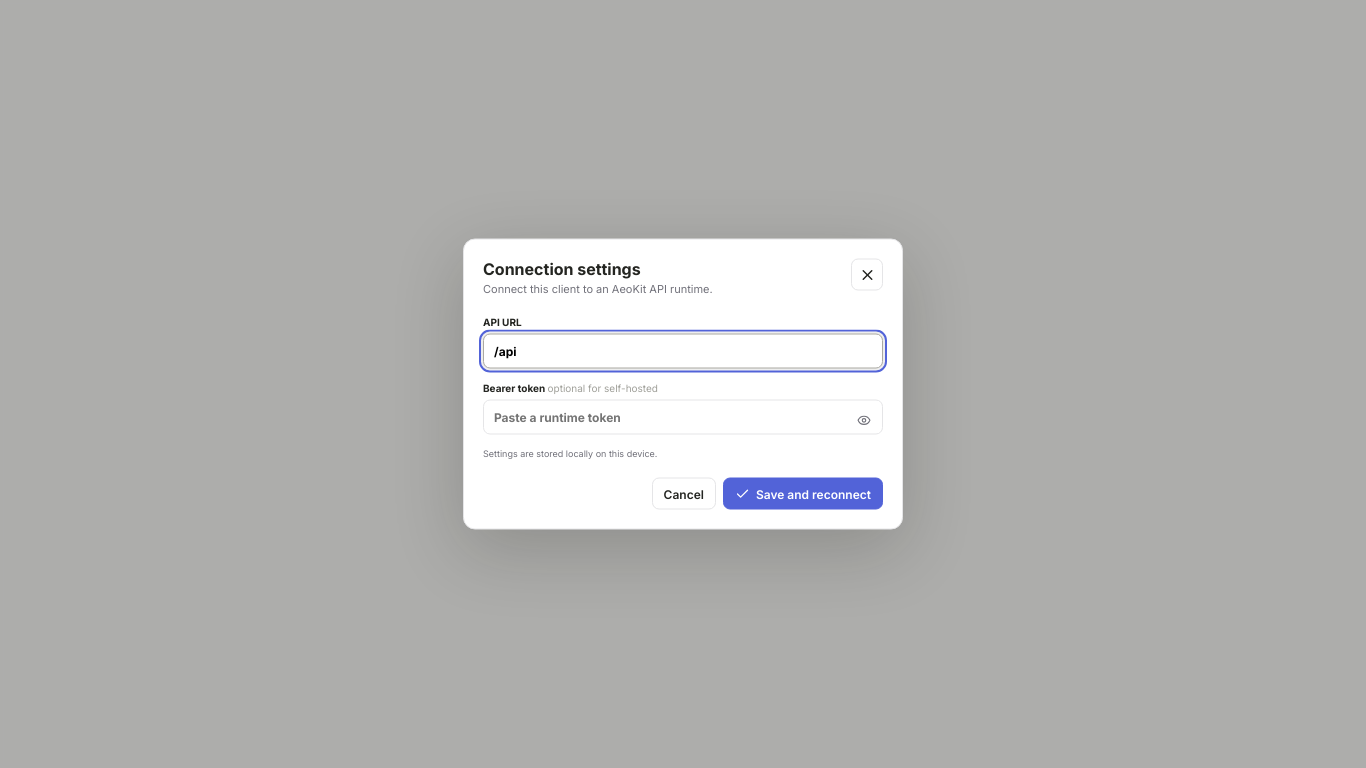
it: SettingsDialog › keeps the dialog stable while settings are being saved
Click the button "Save and reconnect": (803, 494) top-left (723, 478), bottom-right (883, 510)
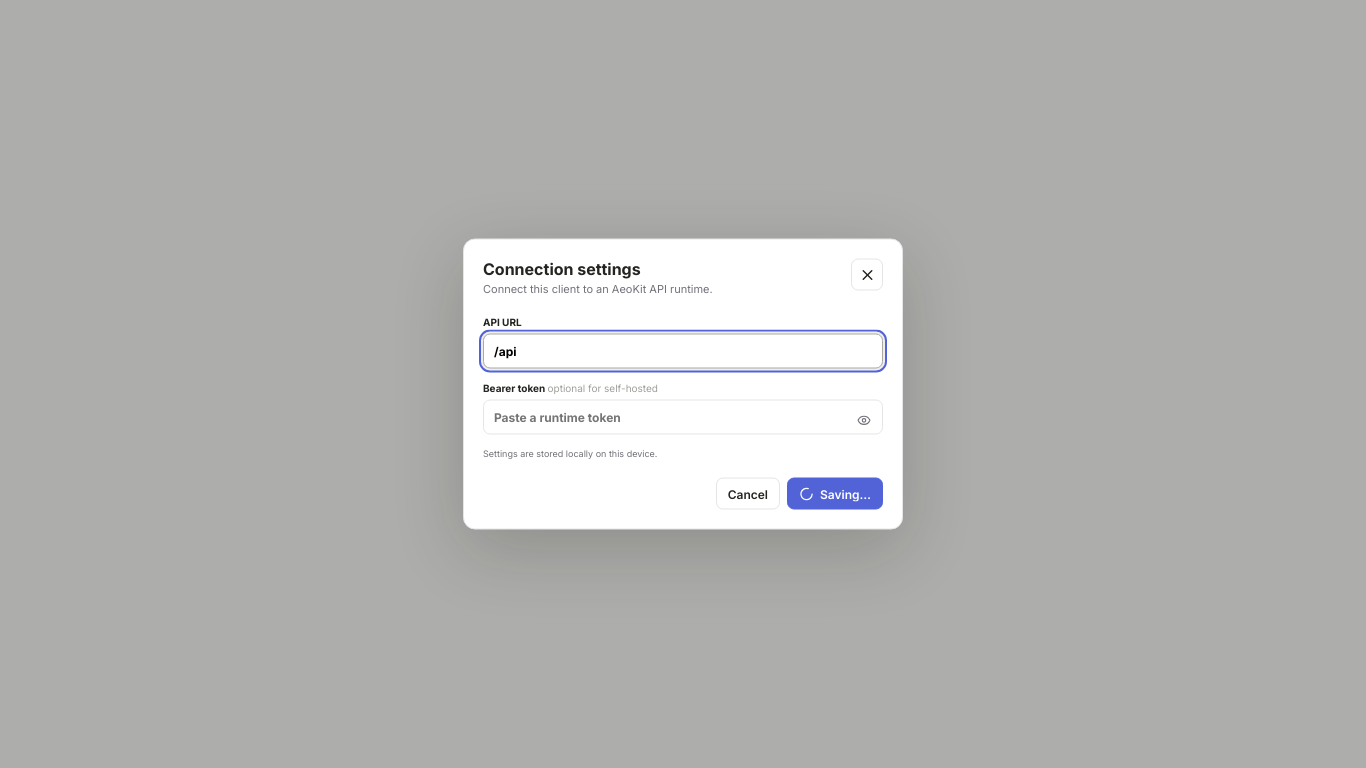
Expected: the button "Saving…" is disabled, top-left (787, 478), bottom-right (883, 510)
Press Escape in the dialog
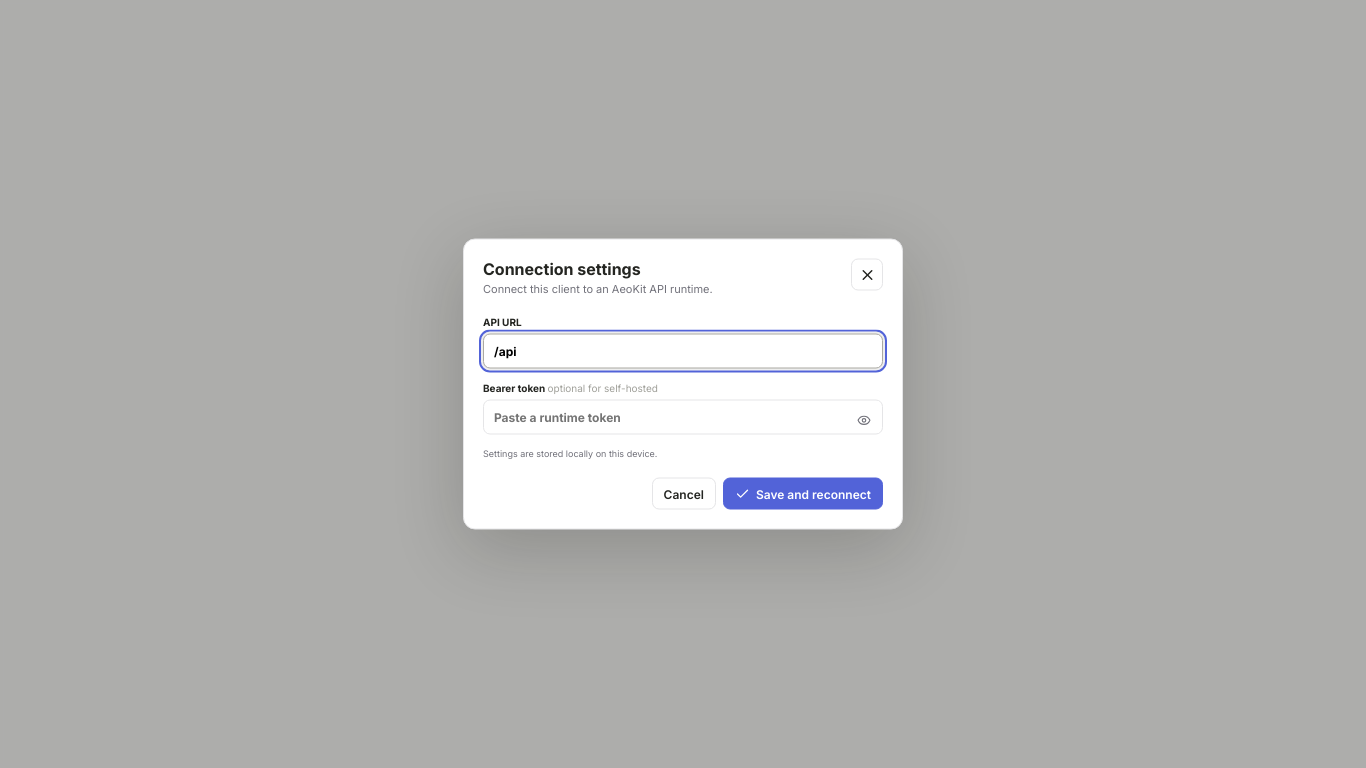
Expected: the button "Save and reconnect" is enabled, top-left (723, 478), bottom-right (883, 510)
